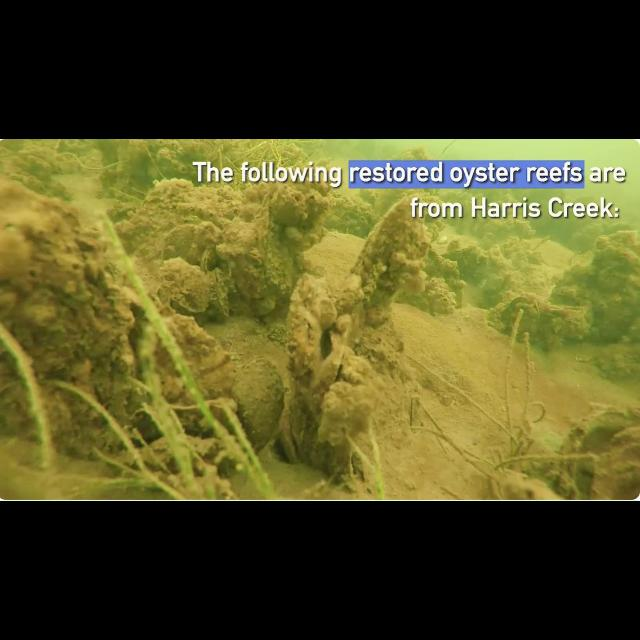Oyster-Closed: (0, 178, 136, 444), (354, 195, 431, 328), (570, 222, 640, 351), (142, 302, 228, 404), (116, 428, 238, 480), (226, 354, 284, 454), (123, 399, 243, 445), (316, 384, 376, 462), (160, 256, 208, 320), (538, 298, 584, 354), (248, 194, 280, 262), (168, 197, 222, 235), (225, 258, 265, 302), (160, 218, 194, 266), (204, 264, 232, 320), (152, 141, 188, 179), (7, 163, 45, 189), (20, 152, 58, 175), (256, 294, 282, 320)
Oyster-Open: (281, 272, 357, 454), (558, 396, 640, 502), (313, 350, 357, 424), (498, 295, 544, 345), (432, 240, 481, 270), (47, 152, 91, 174), (104, 199, 132, 223), (199, 241, 219, 273)
